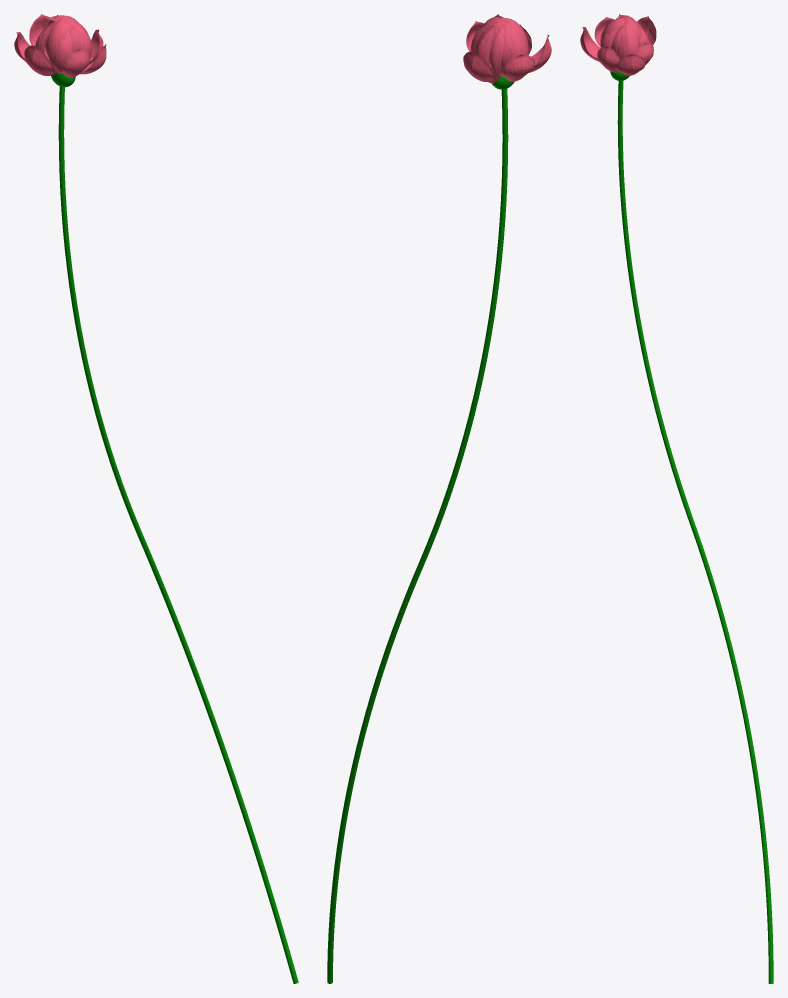
File: Lotus039.fbx
3 views of the same model, side by side, from view 1: azimuth 30°, elevation 25°; view 2: azimuth 150°, elevation 25°; view 3: azimuth 330°, elevation 25° (orthographic). The views are drawn at different scales.
Parts seen in each view (by area): view 1: pCylinder5; view 2: pCylinder5, nurbsToPoly12, nurbsToPoly10, nurbsToPoly23, nurbsToPoly14, nurbsToPoly17; view 3: pCylinder5, nurbsToPoly13, nurbsToPoly24.
Part boxes in pixels (x1,y1,x2,y2): pCylinder5: (58, 86, 298, 983); pCylinder5: (327, 88, 508, 983); nurbsToPoly12: (500, 54, 534, 81); nurbsToPoly10: (463, 51, 500, 81); nurbsToPoly23: (489, 27, 504, 77); nurbsToPoly14: (507, 21, 528, 60); nurbsToPoly17: (474, 22, 499, 83); pCylinder5: (617, 80, 773, 983); nurbsToPoly13: (617, 22, 638, 59); nurbsToPoly24: (615, 54, 645, 75).
Bounding box in the file's own units: 51.35 × 202 × 22.81.
